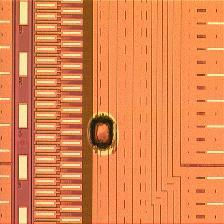BLOCK ETCH: (82, 112, 126, 156)
